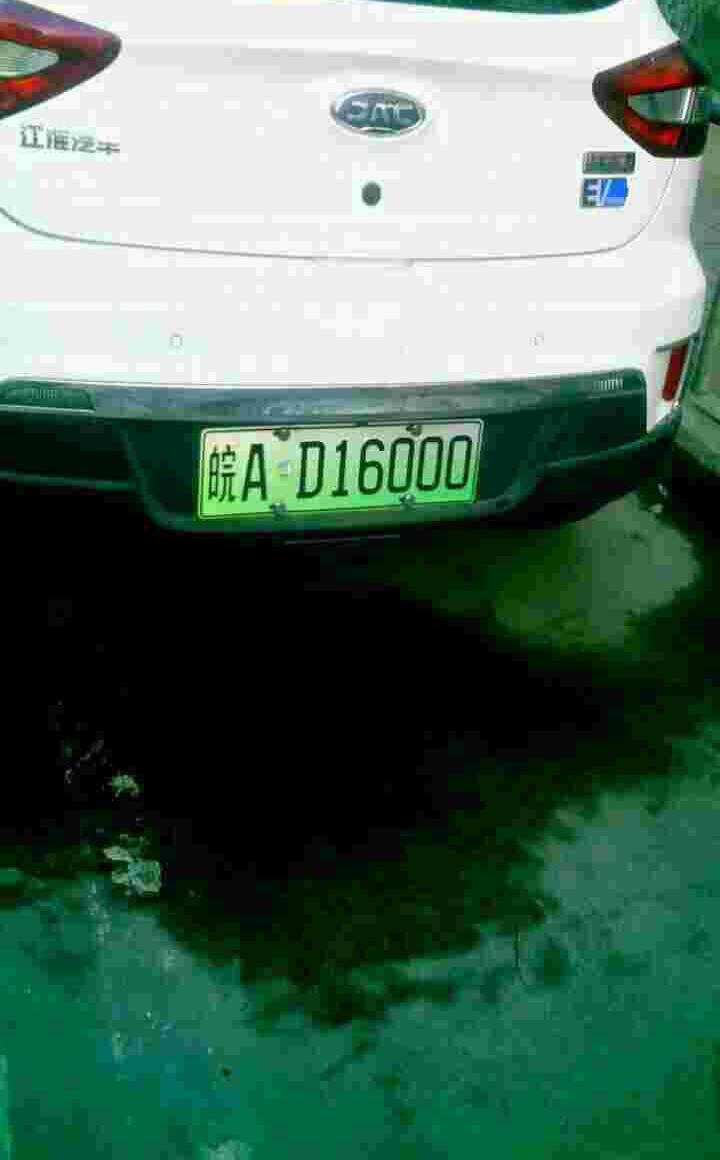car_id: (198, 419, 479, 517)
